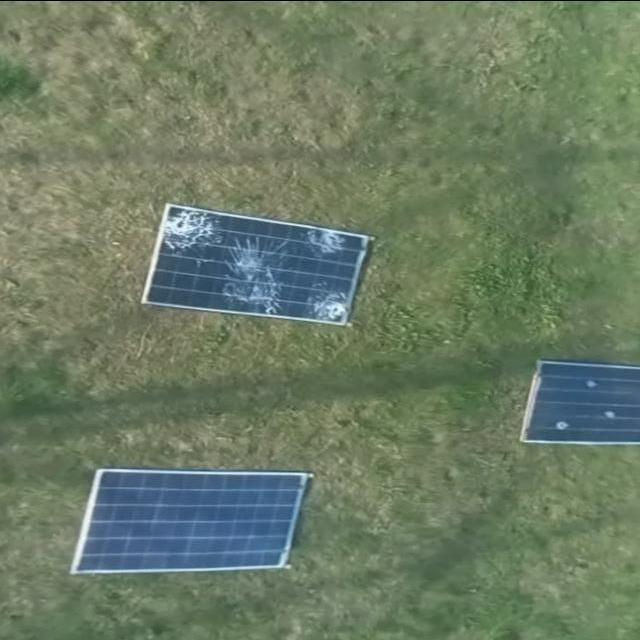Bird-drop: (584, 377, 598, 389), (554, 420, 569, 431), (602, 409, 617, 420)
Physical-damage: (216, 244, 296, 309), (304, 280, 358, 318), (163, 213, 220, 247), (300, 230, 352, 260)
